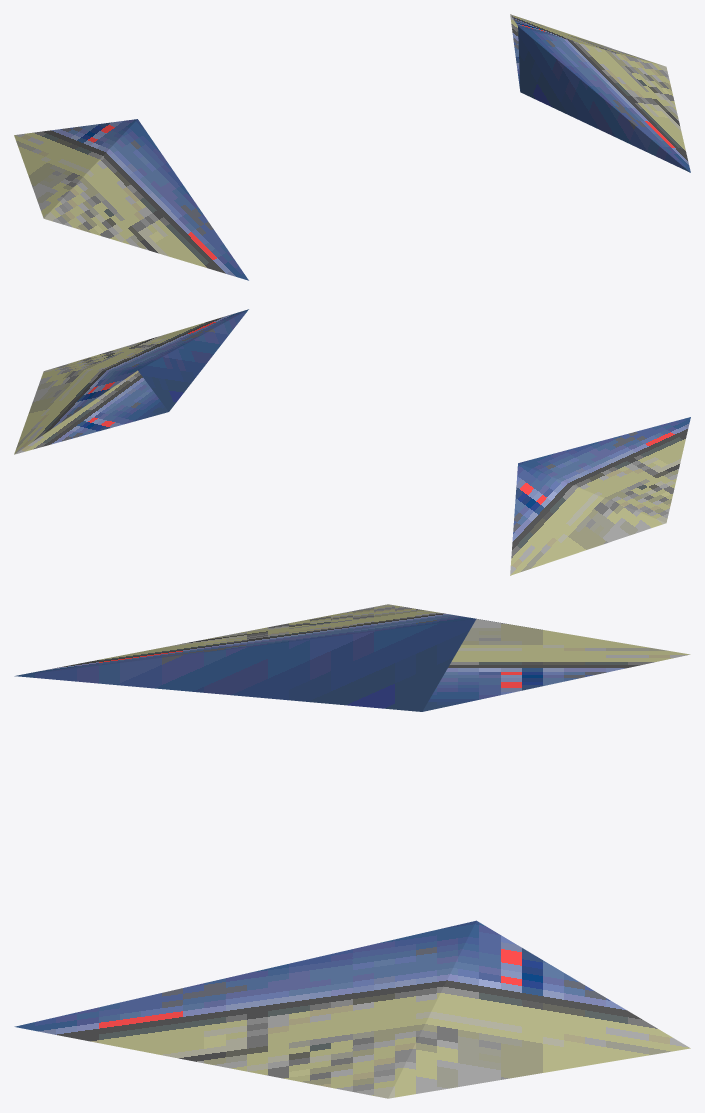
The picture shows the model from 3 angles, top to bottom: view 1: azimuth 30°, elevation 25°; view 2: azimuth 150°, elevation 25°; view 3: azimuth 270°, elevation 25°; orthographic projection. The views are drawn at different scales.
Parts seen in each view (by area): view 1: HoverJetY_Skel_part01; view 2: HoverJetY_Skel_part01; view 3: HoverJetY_Skel_part01.
Boxes of the visible parts, box(x1,y1,x2,y2) form: HoverJetY_Skel_part01: box(14, 14, 690, 280); HoverJetY_Skel_part01: box(14, 309, 690, 575); HoverJetY_Skel_part01: box(14, 604, 690, 1098).
Size of the model in its own units: 15.68 by 1.21 by 9.07.
Materials: 1 (1 with a texture image).
